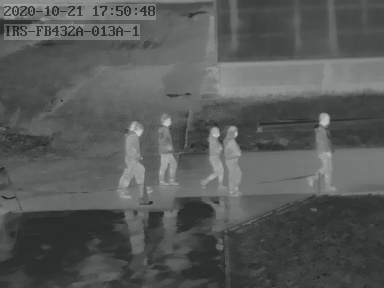person: (119, 116, 145, 200), (310, 111, 336, 189), (155, 112, 178, 187), (200, 125, 225, 186), (224, 126, 244, 191)
